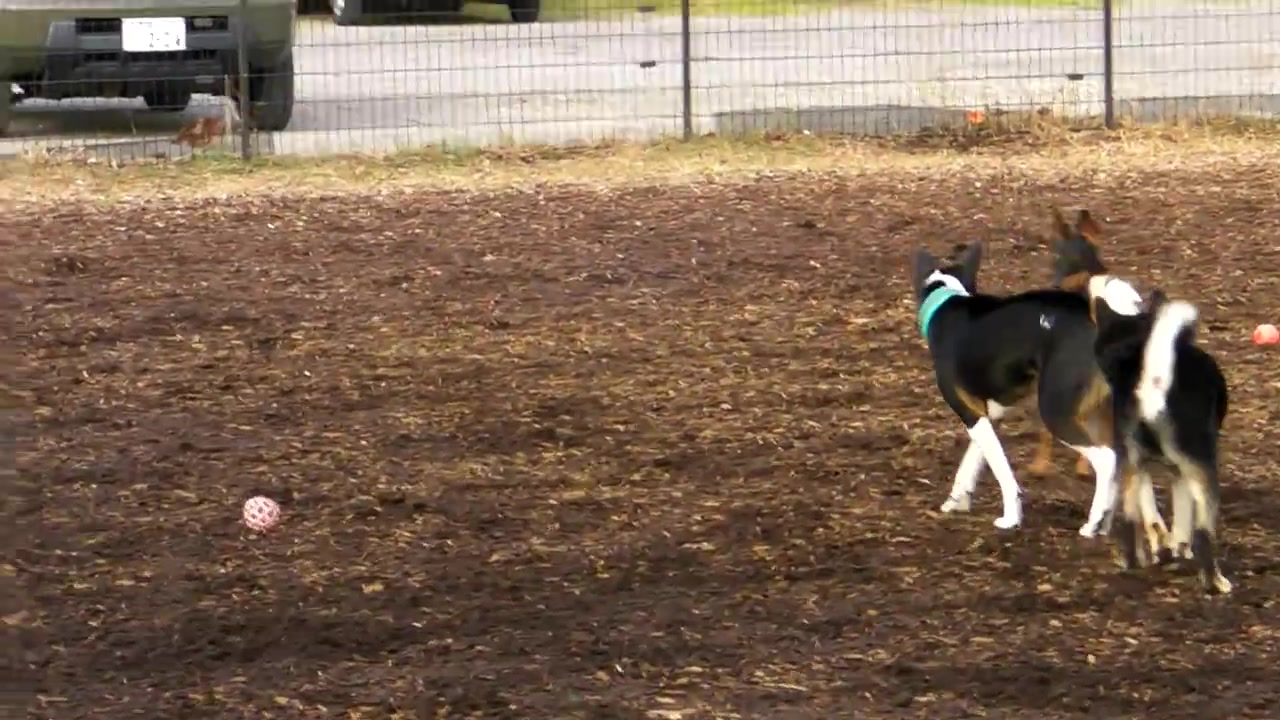dog: (910, 247, 1121, 541)
